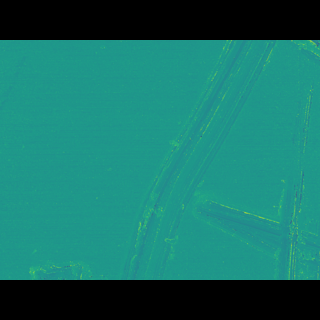Loch: (117, 70, 276, 250), (189, 182, 319, 250), (274, 101, 317, 250), (20, 233, 107, 250)
